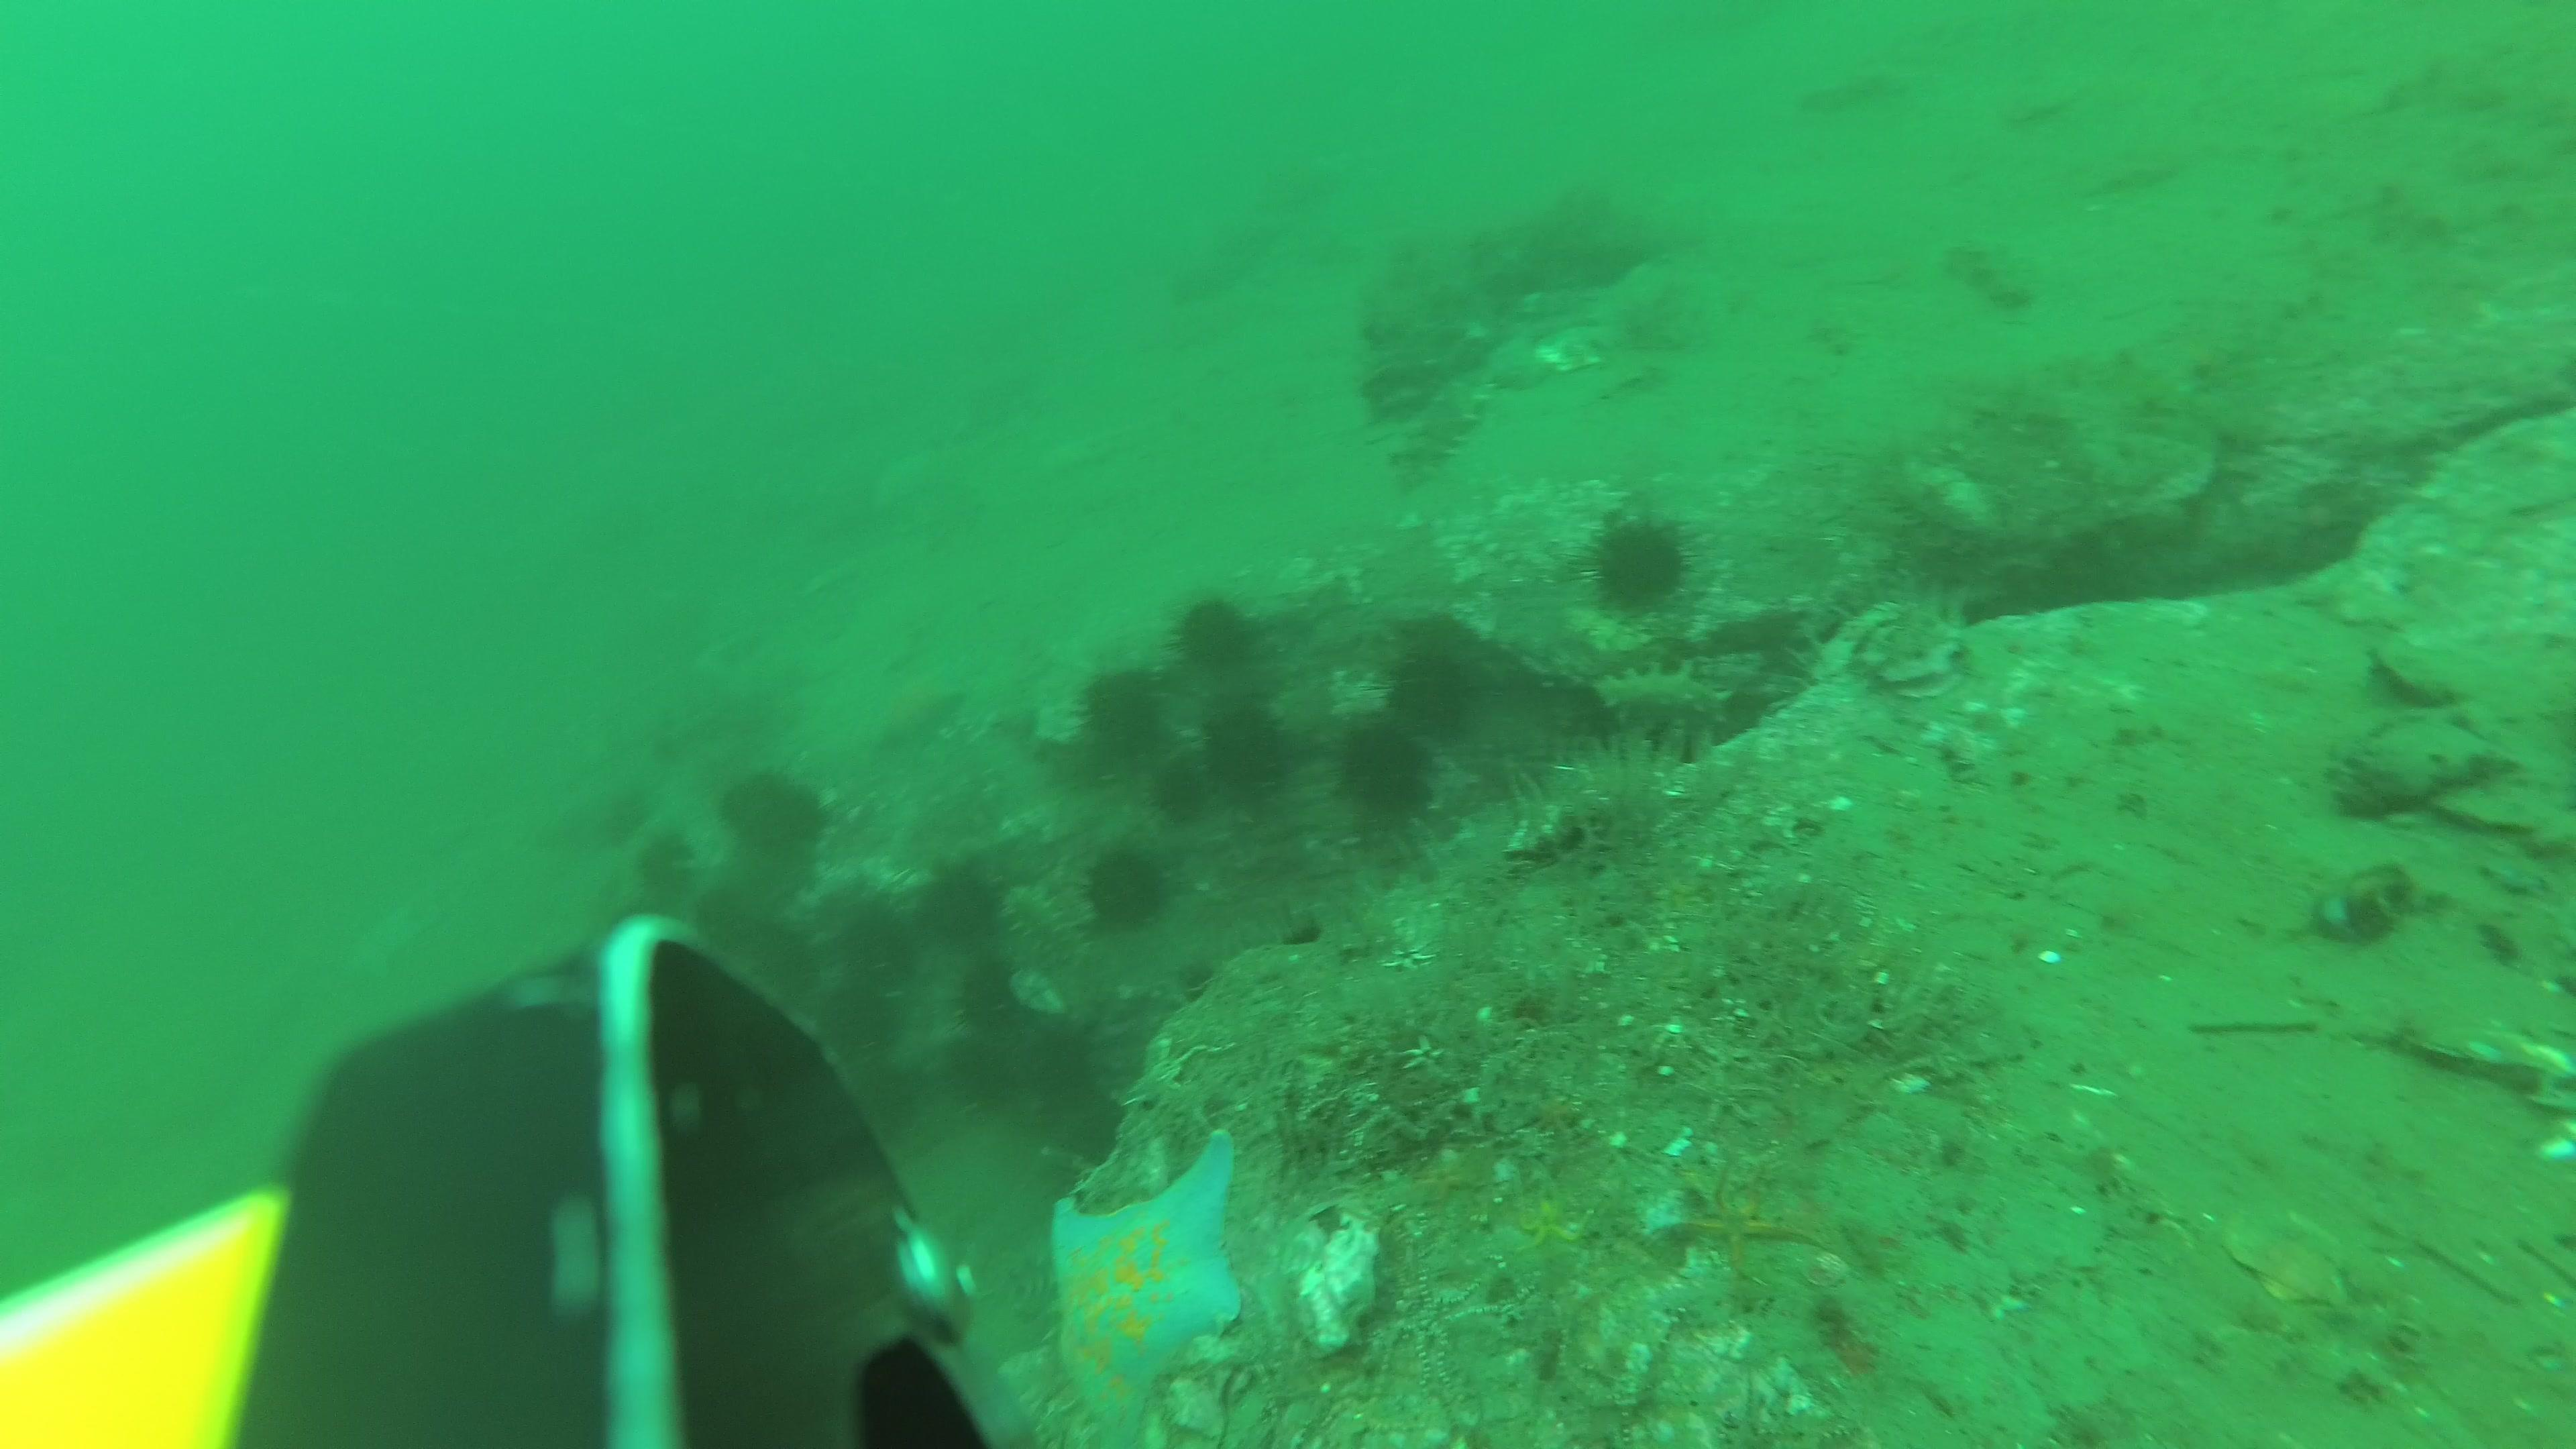echinus: (1580, 518, 1693, 616), (1338, 718, 1431, 821), (1079, 669, 1171, 771), (1173, 589, 1261, 686), (1208, 688, 1292, 789), (1378, 653, 1470, 740), (725, 768, 816, 855), (1083, 846, 1169, 932), (824, 897, 909, 984), (922, 858, 1000, 948), (821, 978, 904, 1053), (1274, 922, 1350, 996), (1148, 741, 1214, 821), (630, 833, 702, 904), (1049, 1081, 1120, 1150), (941, 1042, 1014, 1109), (755, 920, 814, 996), (957, 959, 1019, 1030), (1017, 1028, 1090, 1086), (697, 885, 752, 955)
holothurian: (1392, 366, 1497, 495), (1596, 663, 1732, 747), (1007, 885, 1090, 970), (1946, 241, 2035, 317), (1801, 67, 1904, 119), (1812, 303, 1856, 361)
scallop: (2231, 1205, 2350, 1307), (2005, 74, 2084, 122), (1534, 326, 1610, 373)
starfish: (1051, 1122, 1233, 1449), (1679, 1162, 1819, 1288), (879, 681, 961, 755), (1518, 1194, 1591, 1253), (1421, 1154, 1468, 1208)
